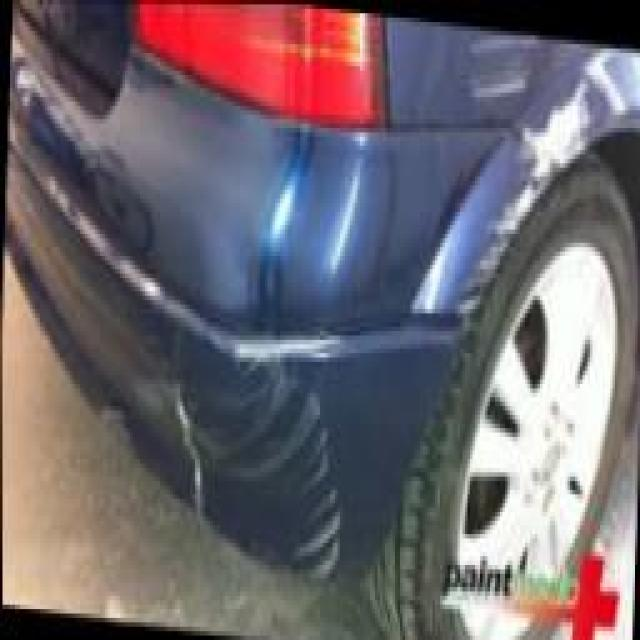Bumper: (80, 121, 559, 584)
Fender: (447, 30, 640, 157)
